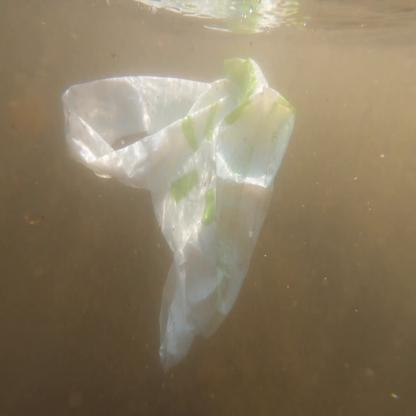Rác: (68, 58, 299, 347)
